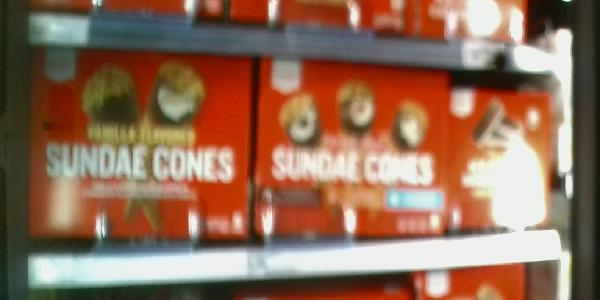icecream: (16, 41, 253, 253), (260, 55, 439, 236), (449, 90, 560, 232)
